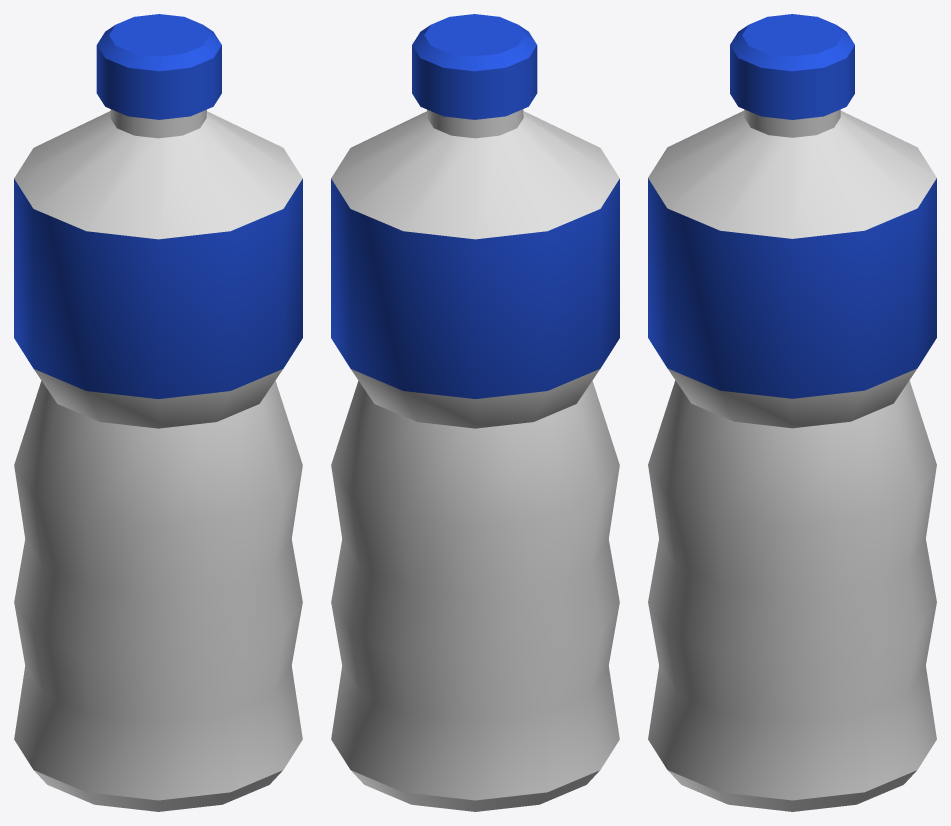
The model's file is botol plastik.fbx.
3 views of the same model, side by side, from view 1: azimuth 30°, elevation 25°; view 2: azimuth 150°, elevation 25°; view 3: azimuth 270°, elevation 25° (orthographic).
Visible parts, largest first — view 1: Circle.001; view 2: Circle.001; view 3: Circle.001.
Boxes of the visible parts, <box> form: Circle.001: <box>14,14,302,811</box>; Circle.001: <box>331,14,619,811</box>; Circle.001: <box>648,14,936,811</box>.
Size of the model in its own units: 200 by 552 by 200.
